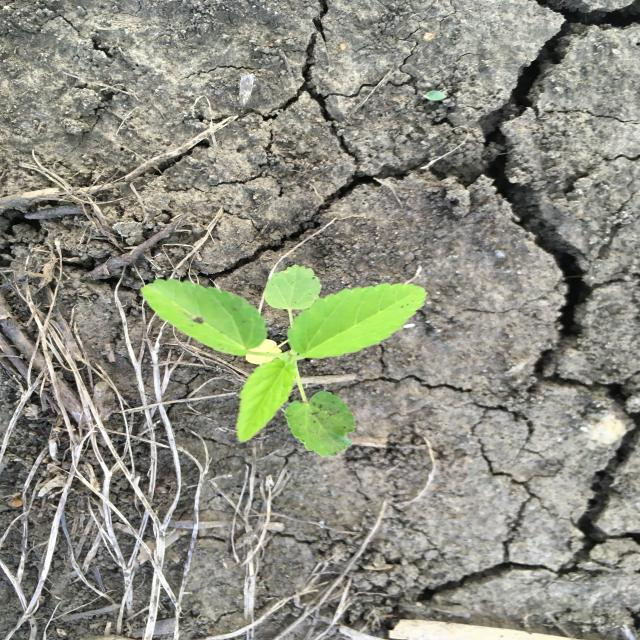PricklySida: (139, 262, 431, 458)
